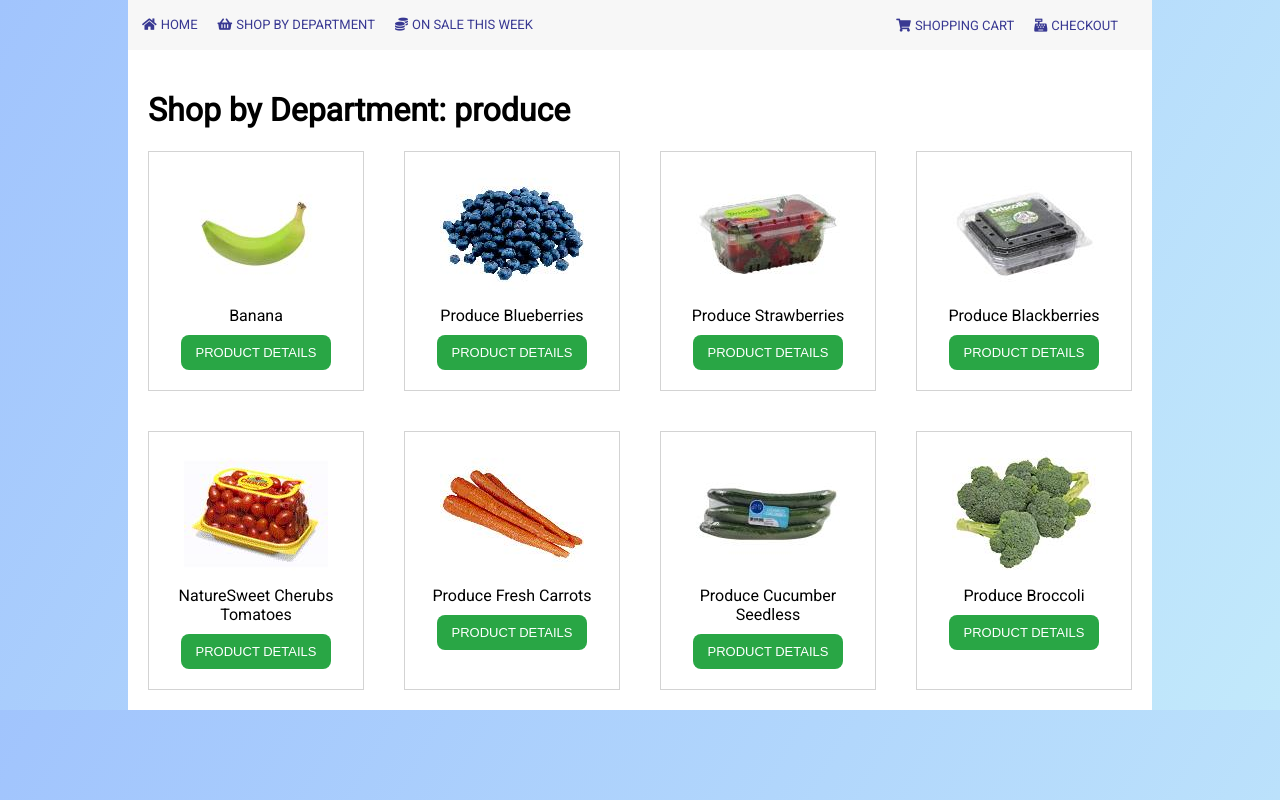
Test: Products Tests › Visits the produce page and clicks on bananas
The width and height of the screenshot is (1280, 800).
Step 1. Click the button with id "00000000040112" → (256, 353), box [181,335,331,370]
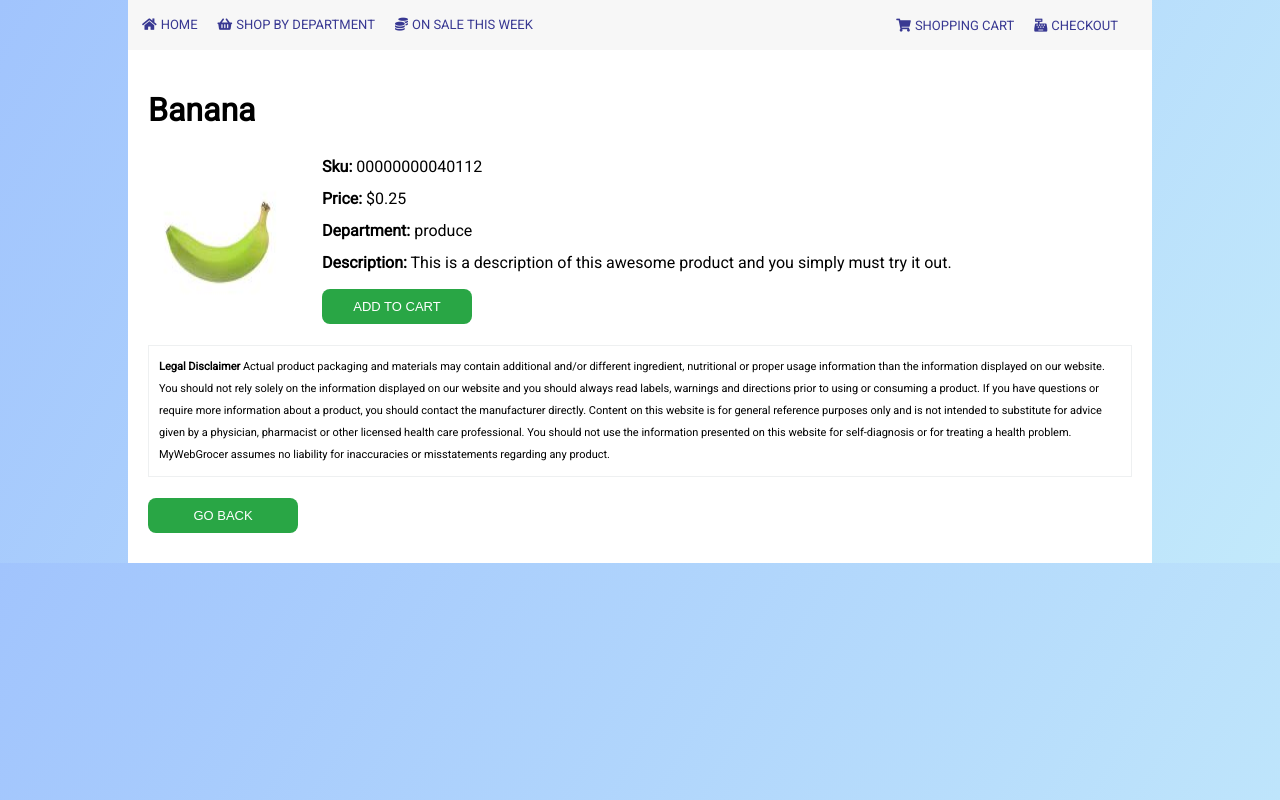
Now the heading "Banana" is shown, box [148,91,256,129]
